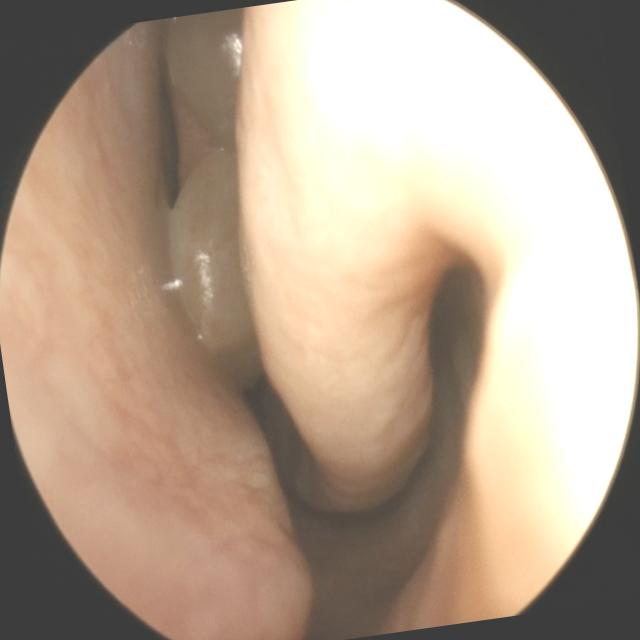OPENING: (215, 412, 276, 574)
POLYPS: (167, 153, 255, 382), (162, 21, 245, 145)
